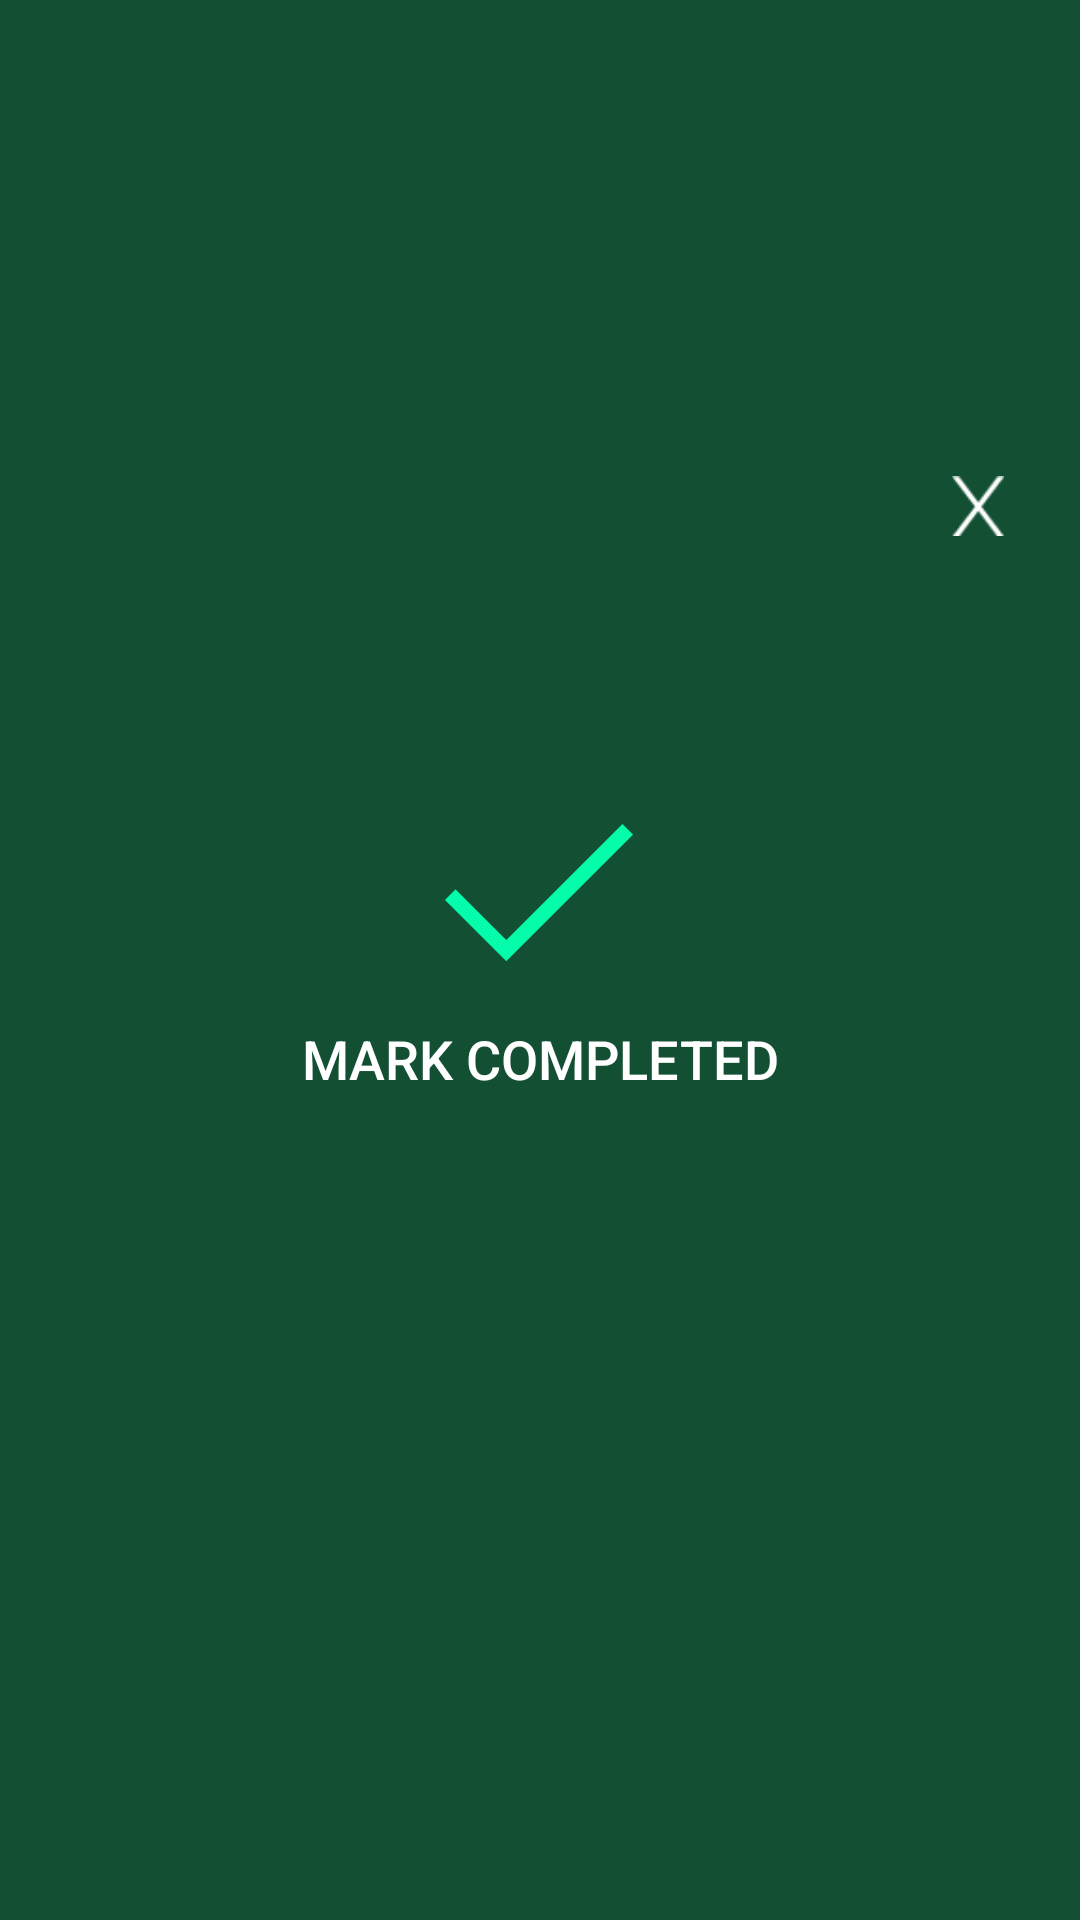

Icons on this 1080px x 1920px Android screen, each with the point to tap as (x=x, y=y):
close: (x=978, y=506)
